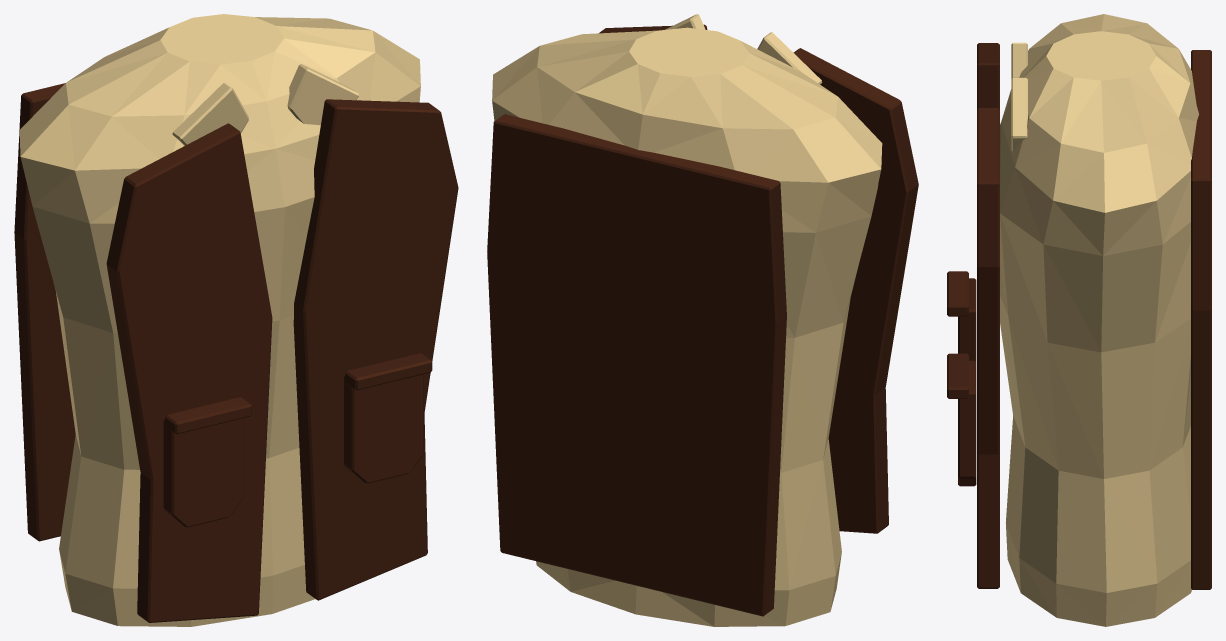
File: EP_Torso_FieldVest.fbx
3 renders of one model, left to right at view 1: azimuth 30°, elevation 25°; view 2: azimuth 150°, elevation 25°; view 3: azimuth 270°, elevation 25°, orthographic. The views are drawn at different scales.
Parts seen in each view (by area): view 1: EP_Torso_FieldVest; view 2: EP_Torso_FieldVest; view 3: EP_Torso_FieldVest.
Part boxes in pixels (box(x1,y1,x2,y2)): EP_Torso_FieldVest: box(14, 14, 458, 626); EP_Torso_FieldVest: box(487, 14, 918, 626); EP_Torso_FieldVest: box(947, 14, 1211, 626).
Bounding box in the file's own units: 0.47 × 0.605 × 0.2885.
